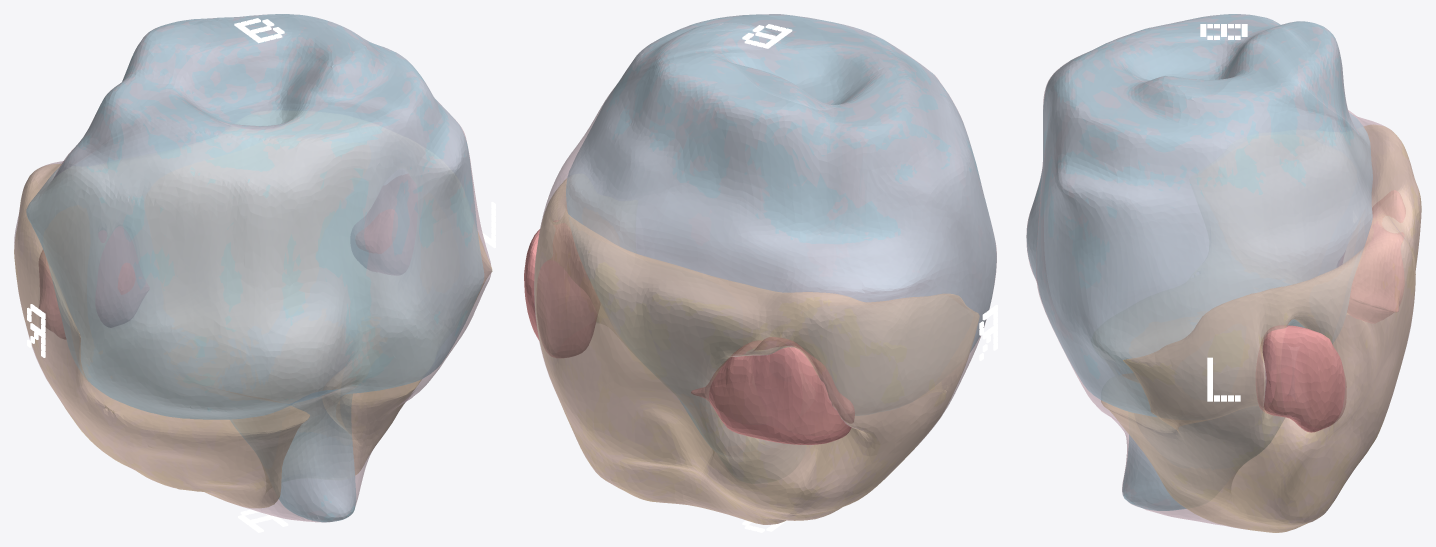
The picture shows the model from 3 angles, left to right: view 1: azimuth 30°, elevation 25°; view 2: azimuth 150°, elevation 25°; view 3: azimuth 270°, elevation 25°; orthographic projection. The views are drawn at different scales.
Parts seen in each view (by area): view 1: prostate_gland, transition_zone, peripheral_zone, lesion_01, pv_ar_marker_B; view 2: prostate_gland, transition_zone, peripheral_zone, lesion_01, pv_ar_marker_B, pv_ar_marker_R; view 3: prostate_gland, transition_zone, peripheral_zone, lesion_01, pv_ar_marker_B.
Boxes of the visible parts, <box> form: prostate_gland: <box>14,14,491,522</box>; transition_zone: <box>26,14,483,522</box>; peripheral_zone: <box>14,164,492,507</box>; lesion_01: <box>39,174,417,339</box>; pv_ar_marker_B: <box>234,18,284,43</box>; prostate_gland: <box>534,14,996,524</box>; transition_zone: <box>566,14,996,443</box>; peripheral_zone: <box>534,178,979,524</box>; lesion_01: <box>524,220,854,444</box>; pv_ar_marker_B: <box>742,24,792,48</box>; pv_ar_marker_R: <box>979,305,997,360</box>; prostate_gland: <box>1026,14,1421,532</box>; transition_zone: <box>1026,14,1372,510</box>; peripheral_zone: <box>1101,124,1421,532</box>; lesion_01: <box>1256,190,1405,432</box>; pv_ar_marker_B: <box>1200,24,1247,39</box>.
Size of the model in its own units: 0.0602 by 0.0625 by 0.0465.
